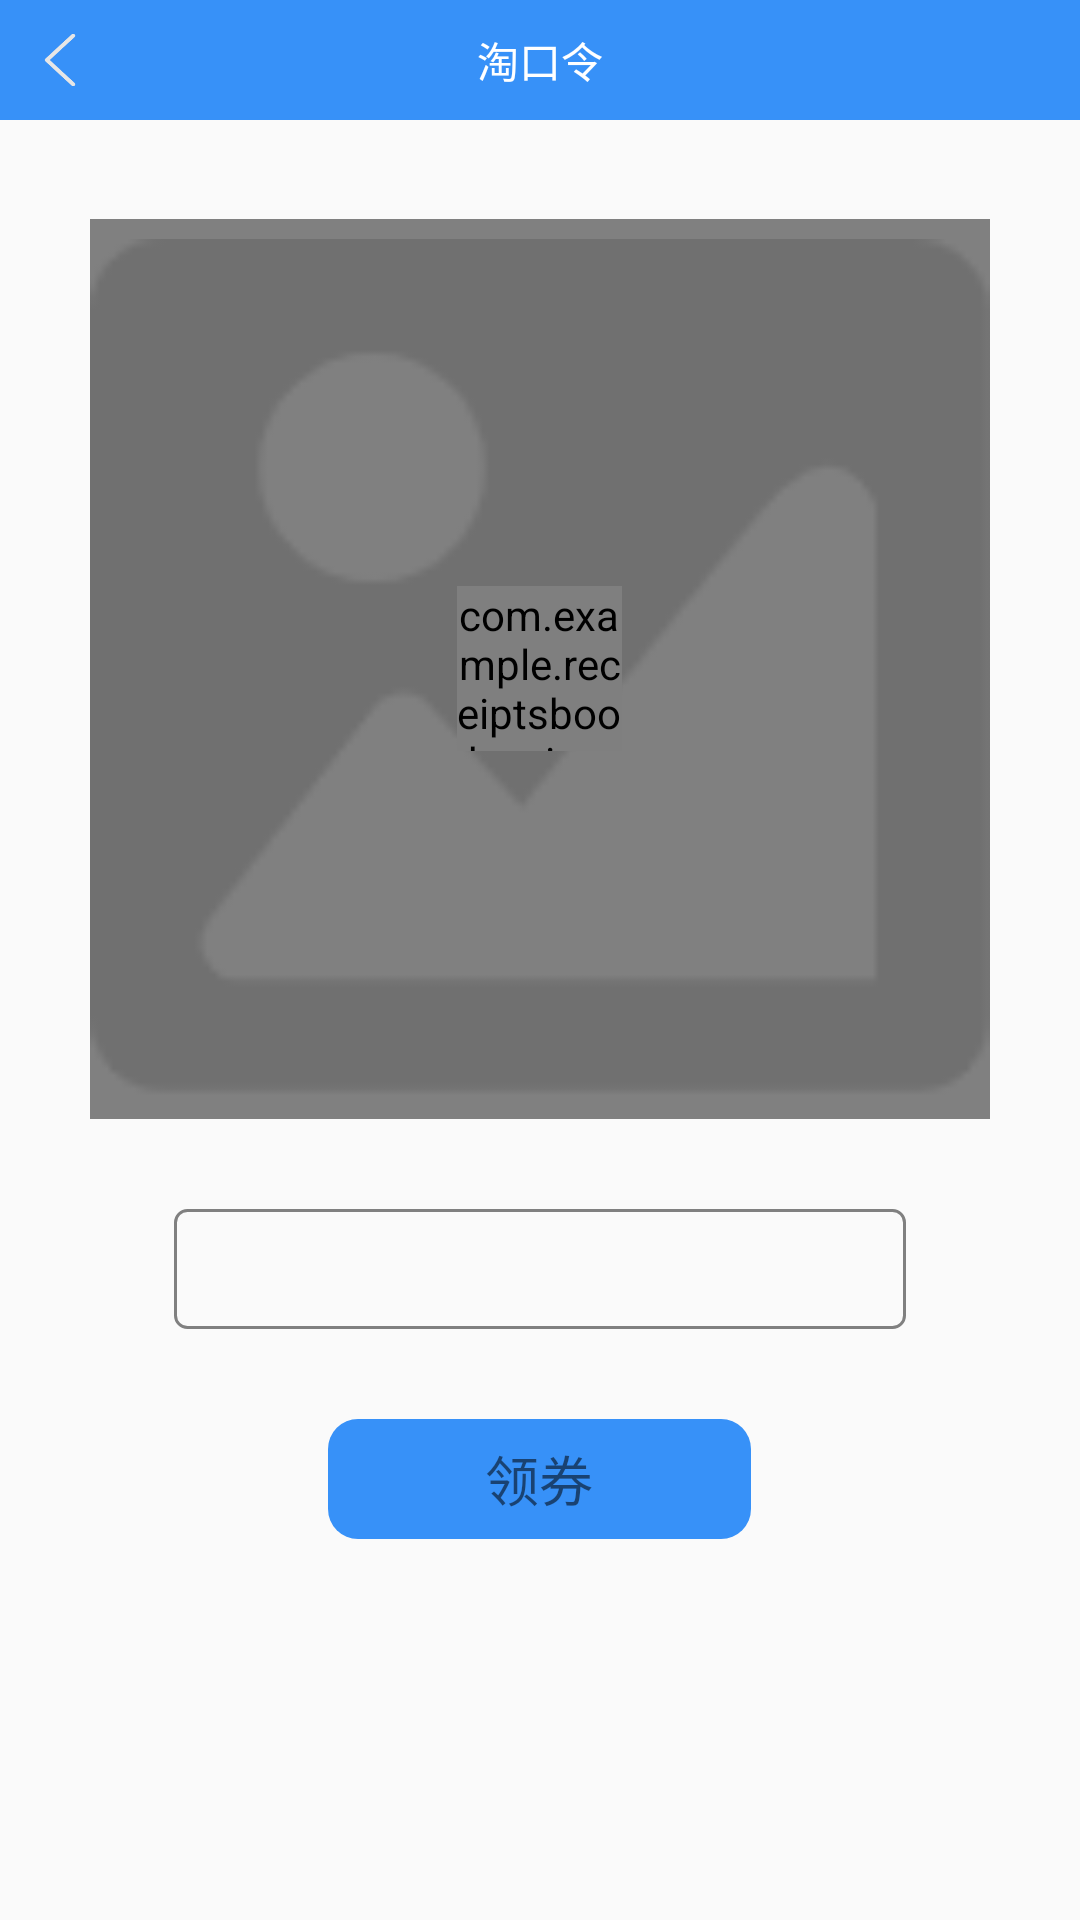

Icon bounding boxes for this 1080px x 1920px phone screenshot, format (x1, y1, x2, y2):
back: (45, 34, 76, 86)
